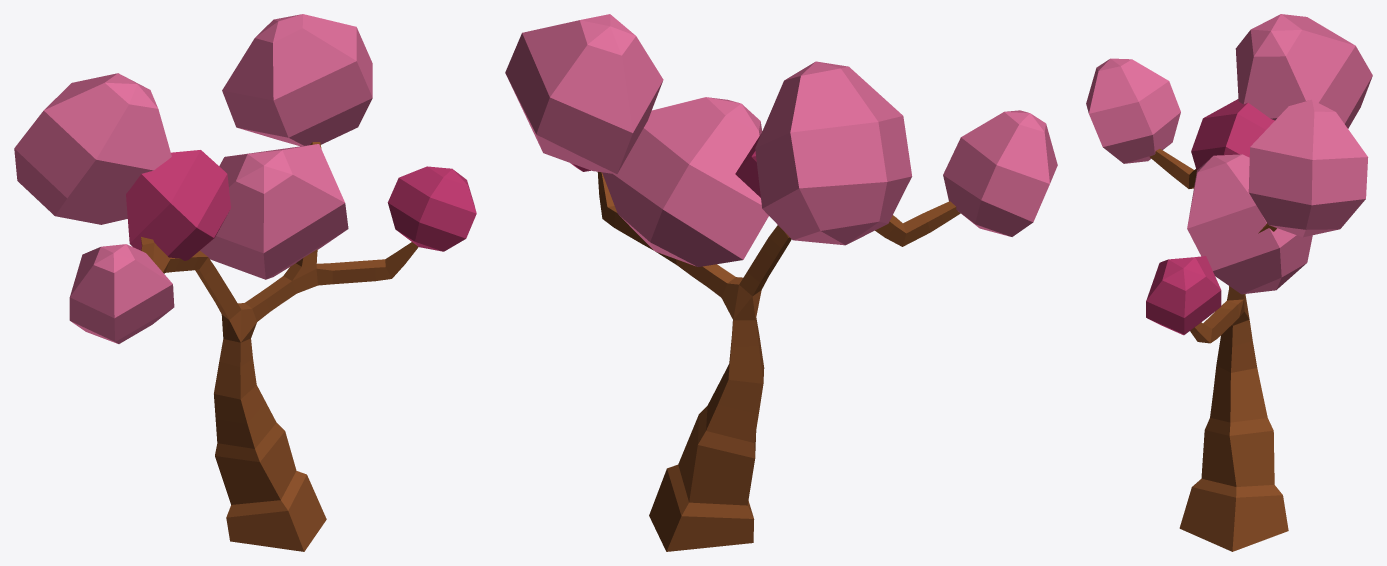
The model's file is agac2.fbx.
3 views of the same model, side by side, from view 1: azimuth 30°, elevation 25°; view 2: azimuth 150°, elevation 25°; view 3: azimuth 270°, elevation 25° (orthographic). The views are drawn at different scales.
Parts seen in each view (by area): view 1: gezegen; view 2: gezegen; view 3: gezegen.
Part boxes in pixels (box(x1,y1,x2,y2)): gezegen: box(14, 14, 476, 551); gezegen: box(505, 14, 1057, 551); gezegen: box(1086, 14, 1372, 551).
Bounding box in the file's own units: 1438 × 1500 × 868.
